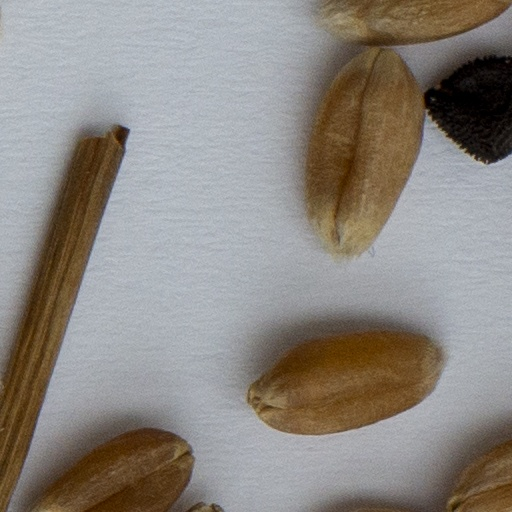Peel-poly: (0, 124, 127, 511)
